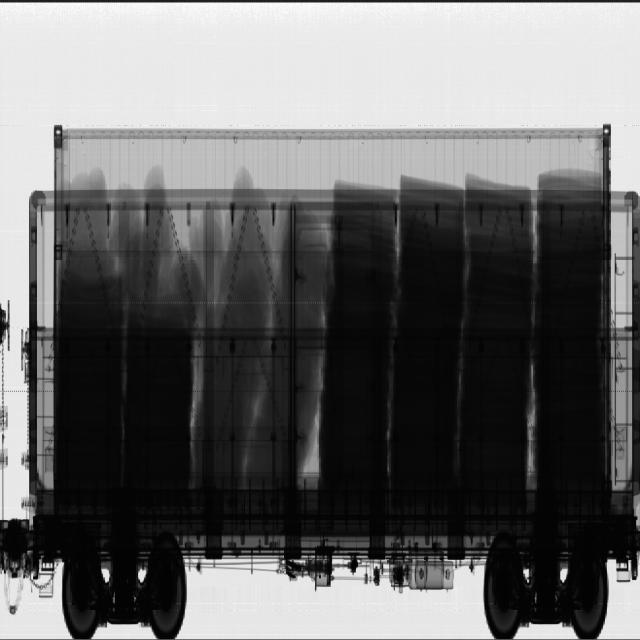textiles: (60, 168, 331, 487)
